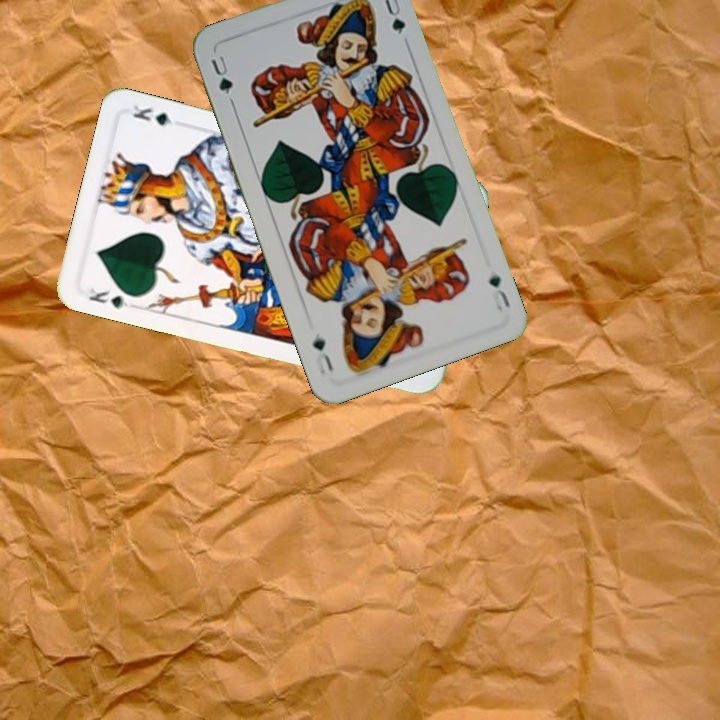GK: (84, 283, 130, 311)
GU: (206, 50, 236, 106), (484, 269, 513, 314)
